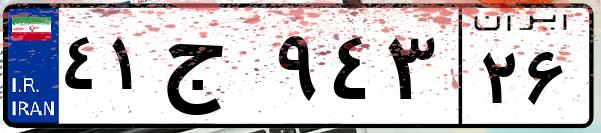1: (110, 28, 158, 98)
2: (475, 38, 525, 113)
3: (385, 28, 445, 110)
4: (330, 28, 385, 110), (57, 26, 110, 100)
6: (525, 38, 570, 115)
9: (270, 28, 330, 110)
ج: (158, 20, 270, 120)
